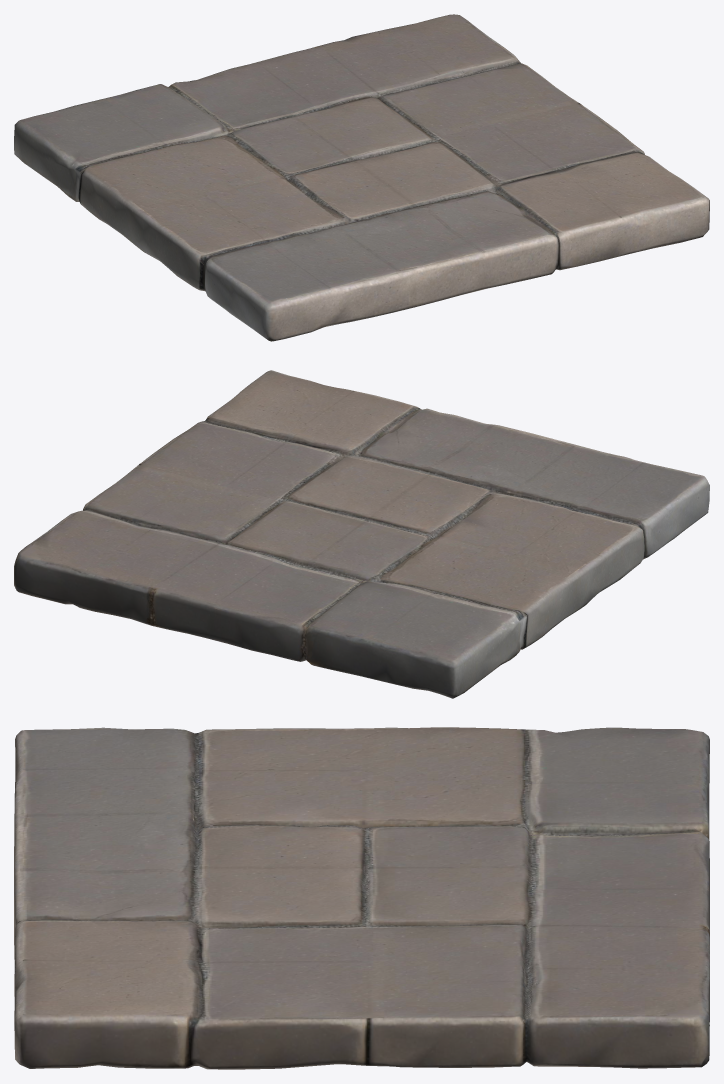
3 views of the same model, one above another, from view 1: azimuth 30°, elevation 25°; view 2: azimuth 150°, elevation 25°; view 3: azimuth 270°, elevation 25° (orthographic). The views are drawn at different scales.
Visible parts, largest first — view 1: Mesh1.0; view 2: Mesh1.0; view 3: Mesh1.0.
Boxes of the visible parts, x1,y1,x2,y2 form: Mesh1.0: (14, 14, 709, 341); Mesh1.0: (14, 370, 709, 698); Mesh1.0: (14, 727, 709, 1069).
Size of the model in its own units: 201 by 17.98 by 200.
1 material, 1 textured.
